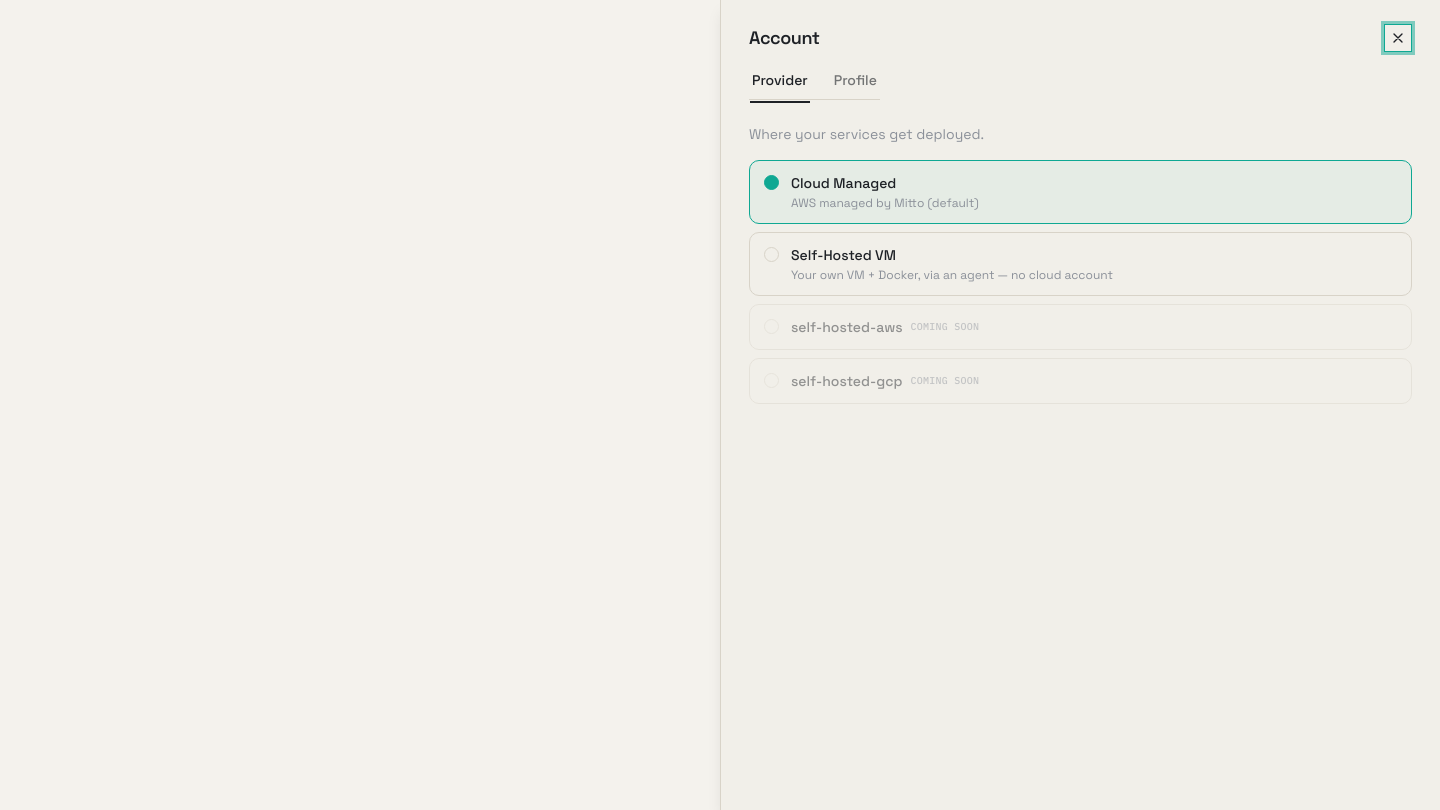
it: AccountPanel › switches the provider and reveals the agents section
Click the button "Self-Hosted VM" at (1080, 264), box [749, 232, 1412, 296]
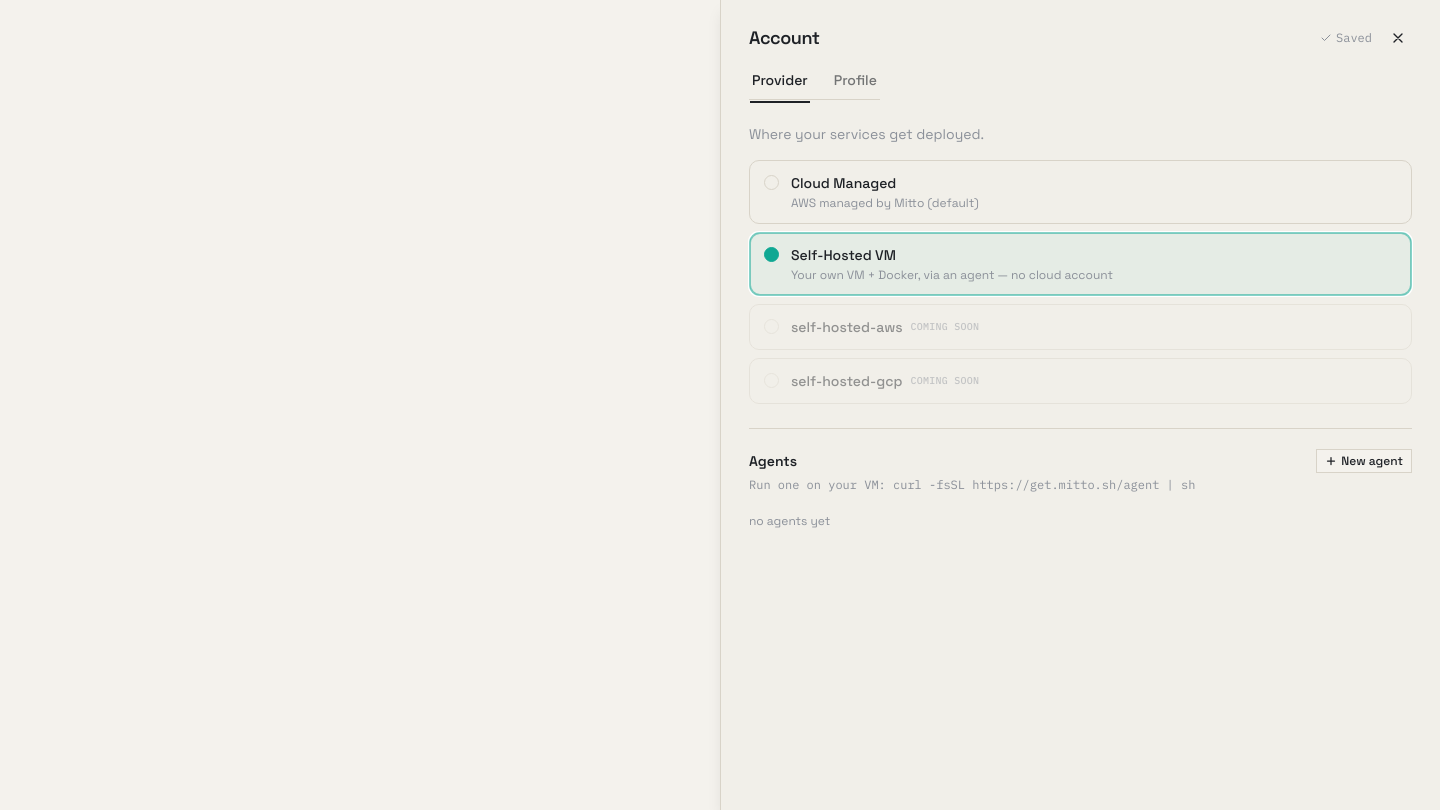
Check: the heading "Agents" is shown, box [749, 451, 797, 471]
